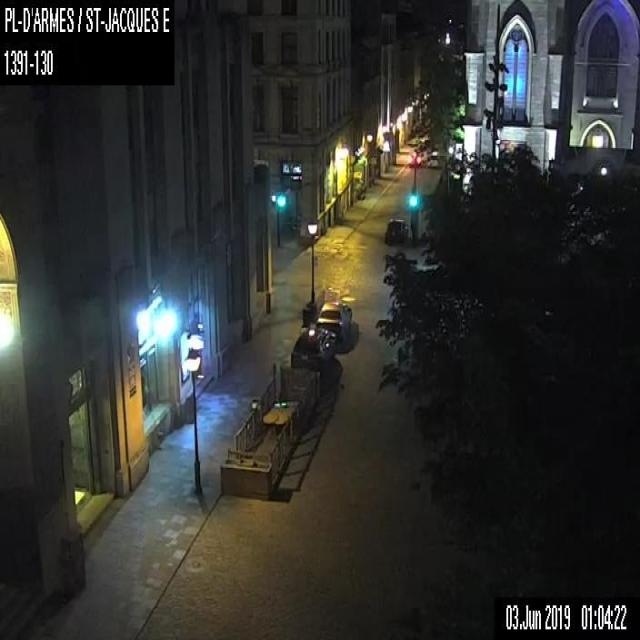vehicle: (289, 328, 335, 368), (315, 300, 352, 338), (384, 218, 406, 245), (408, 152, 421, 166), (427, 156, 438, 167)
